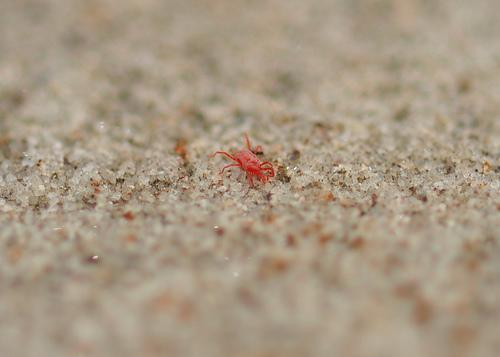tiny_pests: (194, 124, 300, 205)
